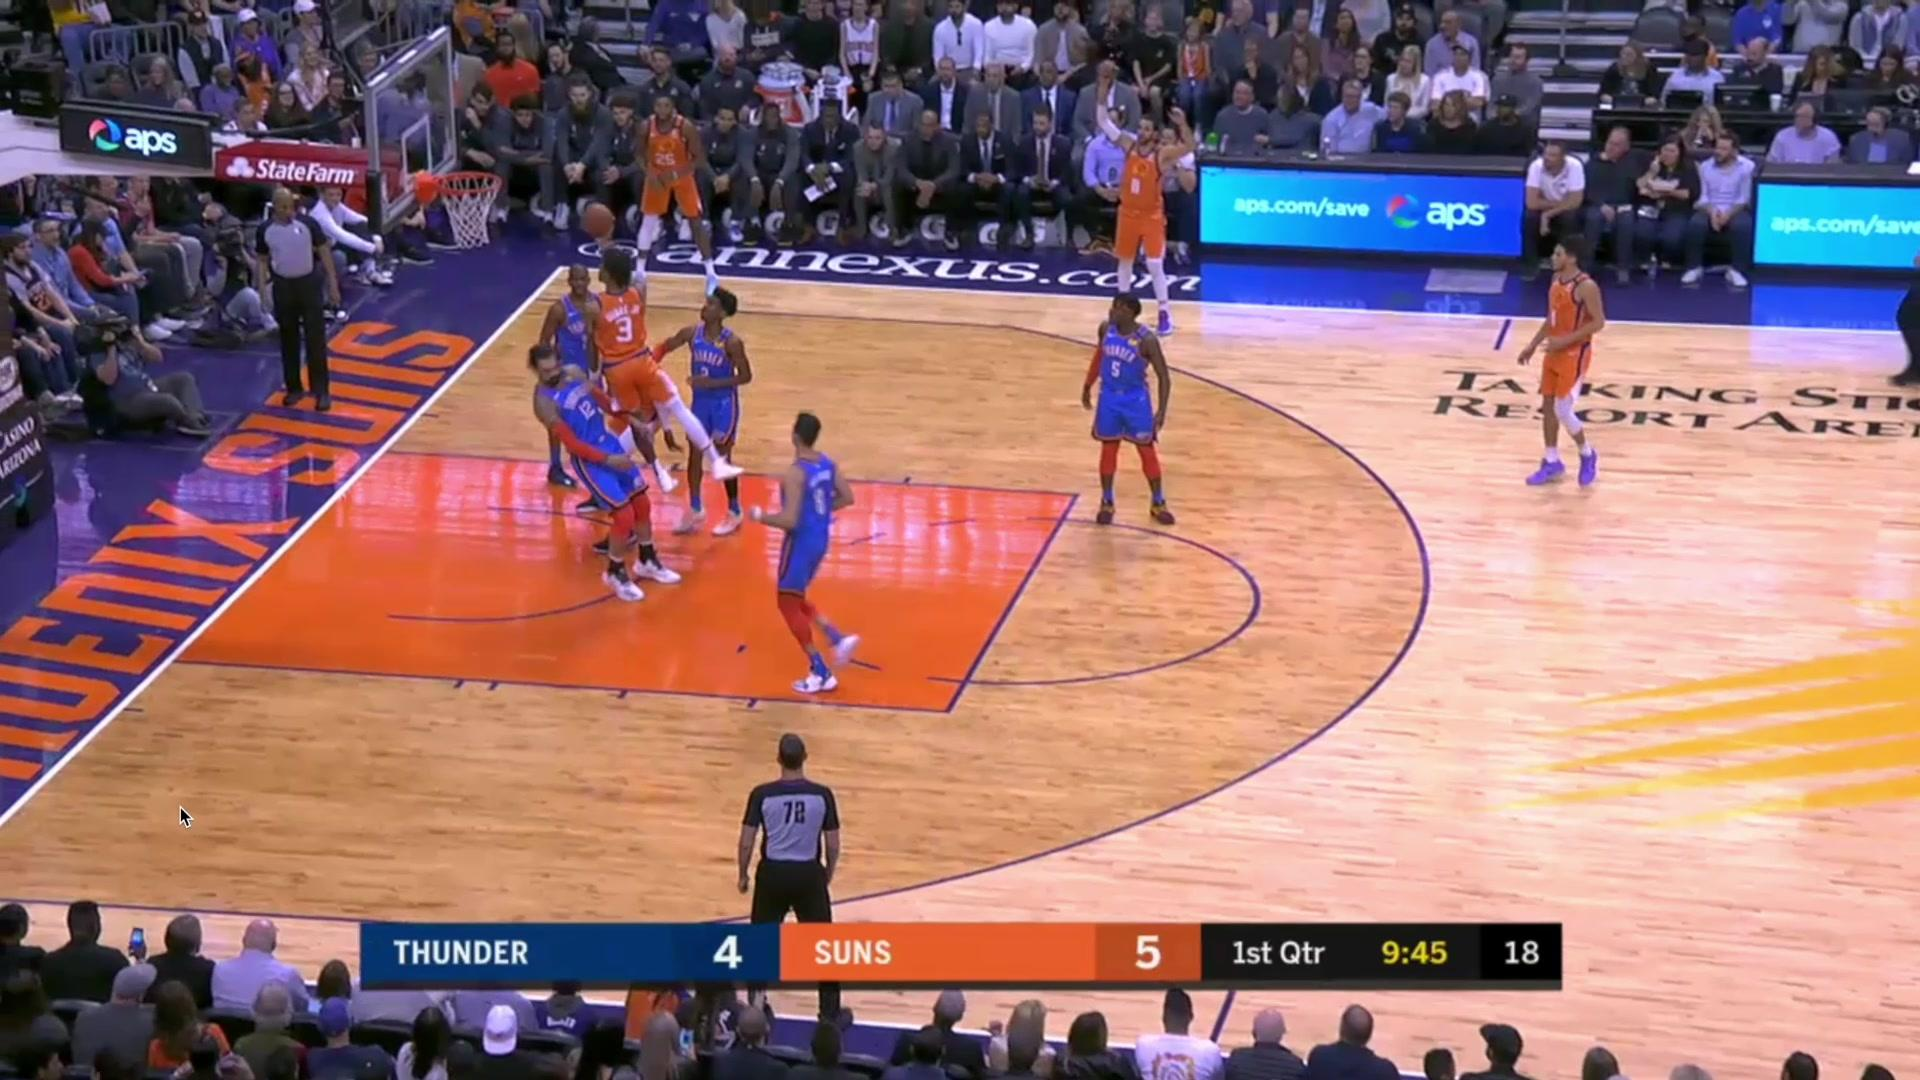foul: (534, 264, 673, 555)
